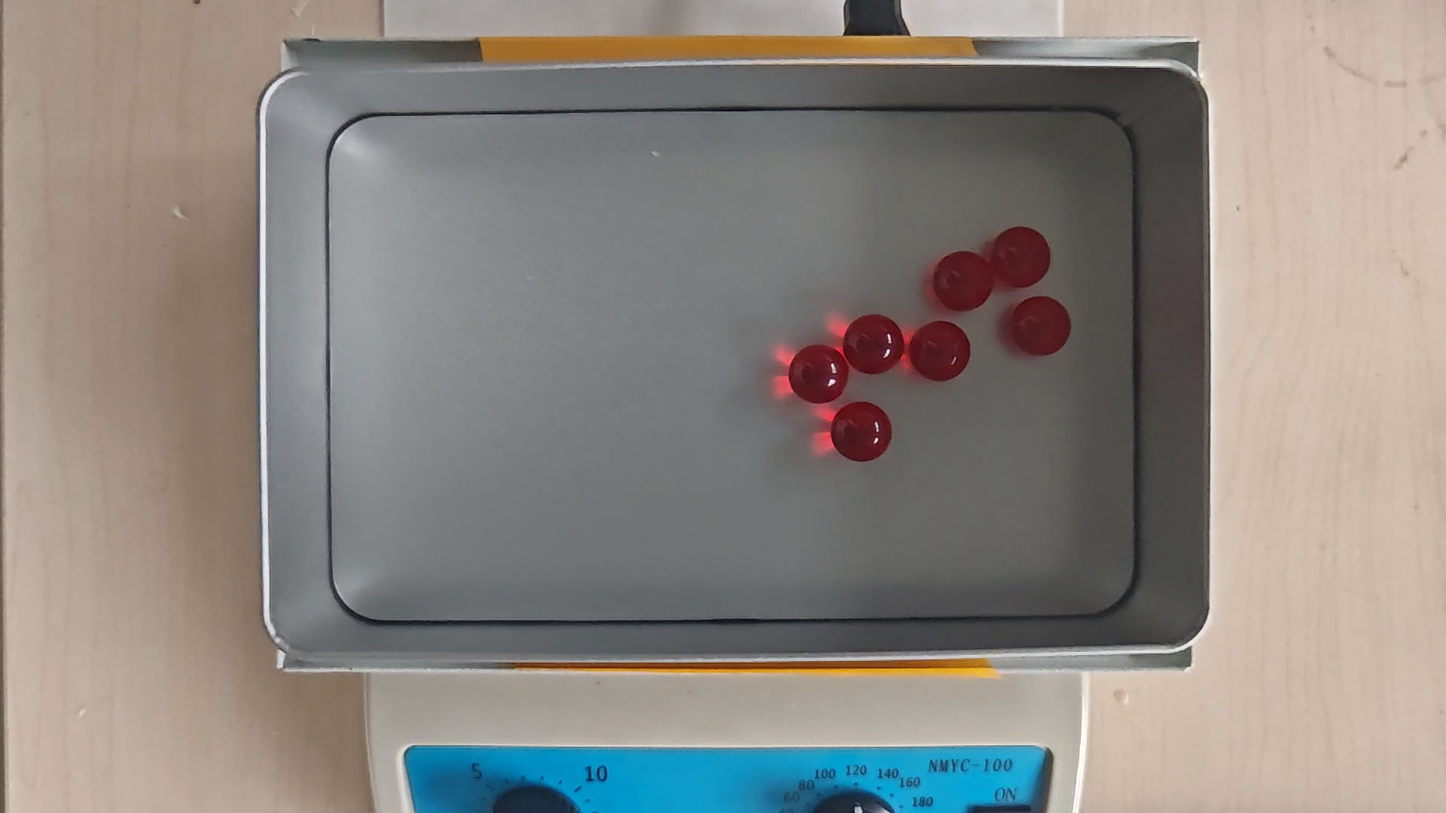ball: (989, 226, 1050, 288), (1009, 296, 1070, 356), (791, 343, 848, 406), (911, 321, 969, 381), (834, 403, 892, 462), (844, 316, 904, 373), (934, 251, 992, 309)
container: (325, 111, 1137, 623)
